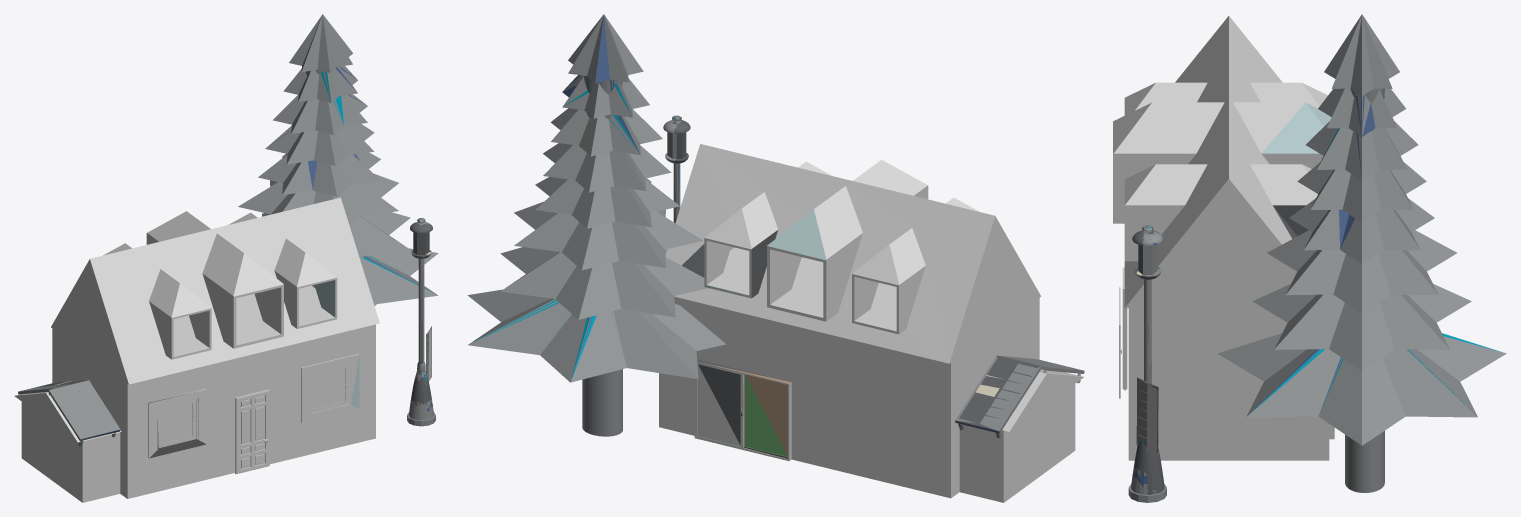
Rendered from itsahouse (2).glb.
The picture shows the model from 3 angles, left to right: view 1: azimuth 30°, elevation 25°; view 2: azimuth 150°, elevation 25°; view 3: azimuth 270°, elevation 25°; orthographic projection. The views are drawn at different scales.
Visible parts, largest first — view 1: Mesh_Mesh_head_geo.001_lambert2SG.001; view 2: Mesh_Mesh_head_geo.001_lambert2SG.001; view 3: Mesh_Mesh_head_geo.001_lambert2SG.001.
Boxes of the visible parts, box(x1,y1,x2,y2) form: Mesh_Mesh_head_geo.001_lambert2SG.001: box(14, 14, 438, 502); Mesh_Mesh_head_geo.001_lambert2SG.001: box(467, 14, 1084, 502); Mesh_Mesh_head_geo.001_lambert2SG.001: box(1113, 14, 1506, 502).
Bounding box in the file's own units: 176 × 134 × 102.
